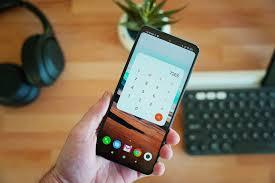Calculator: (114, 56, 183, 127)
